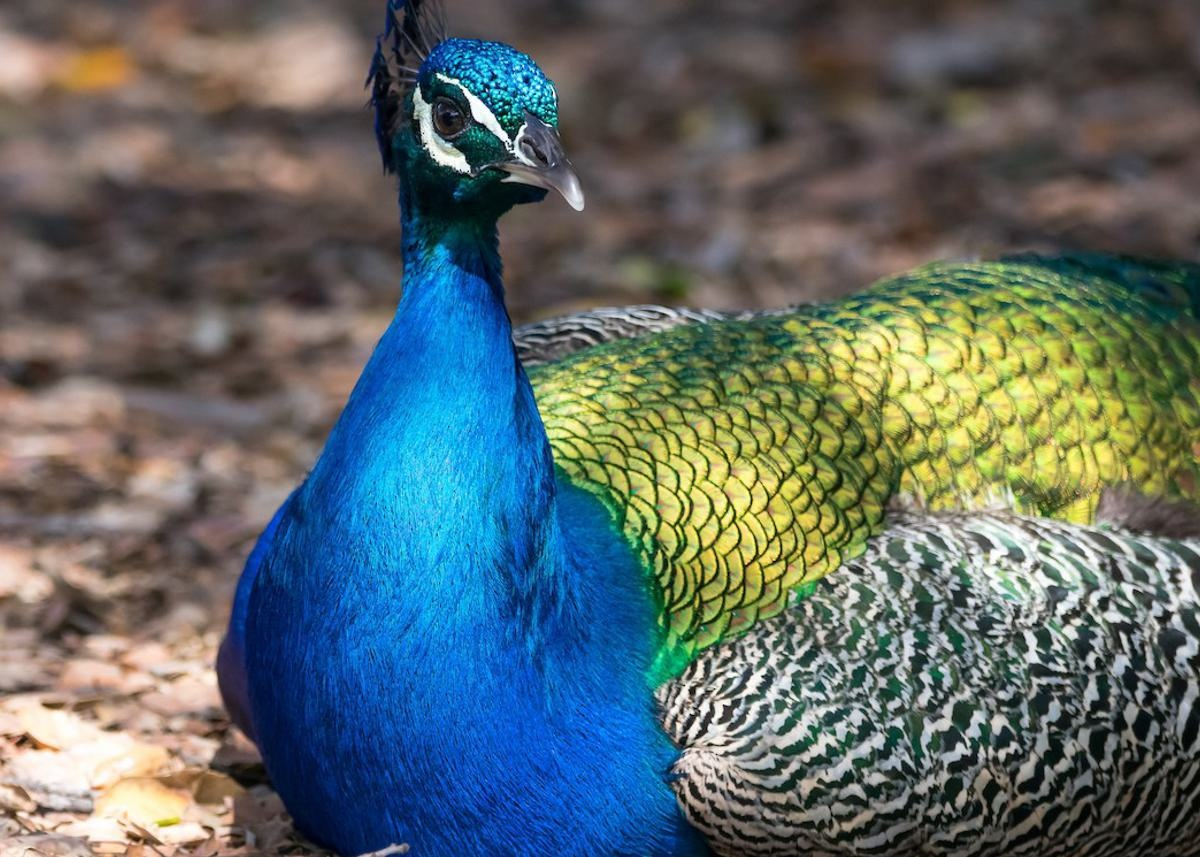peacock: (326, 33, 1200, 835)
